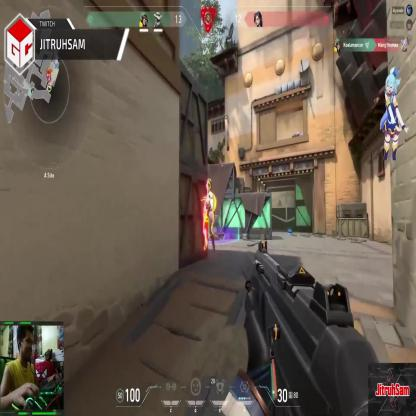enemy: (201, 179, 217, 258)
enemy_head: (205, 180, 212, 192)
